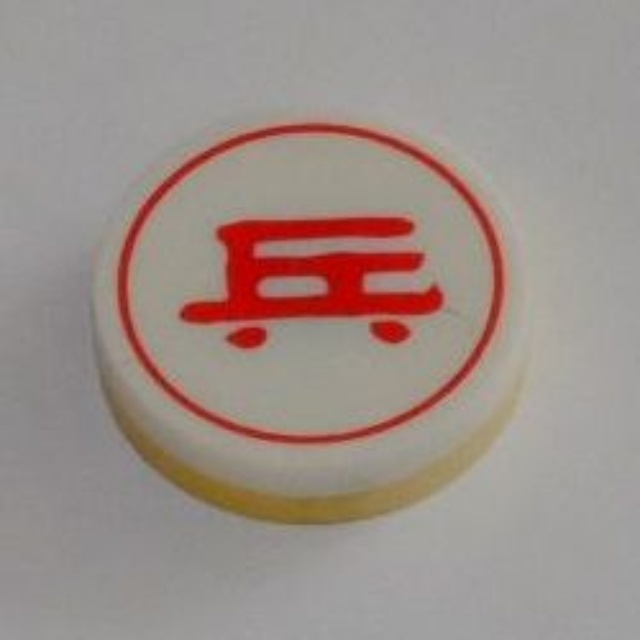red_chot: (77, 101, 544, 534)
